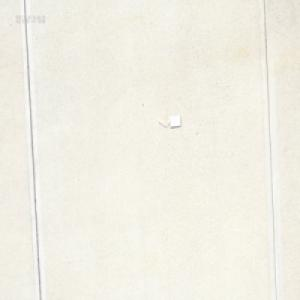LuggageTag: (157, 113, 181, 130)
